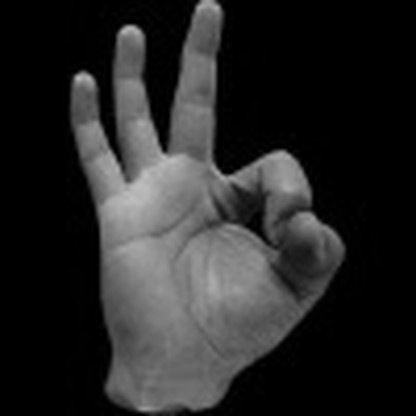f: (66, 1, 352, 374)
